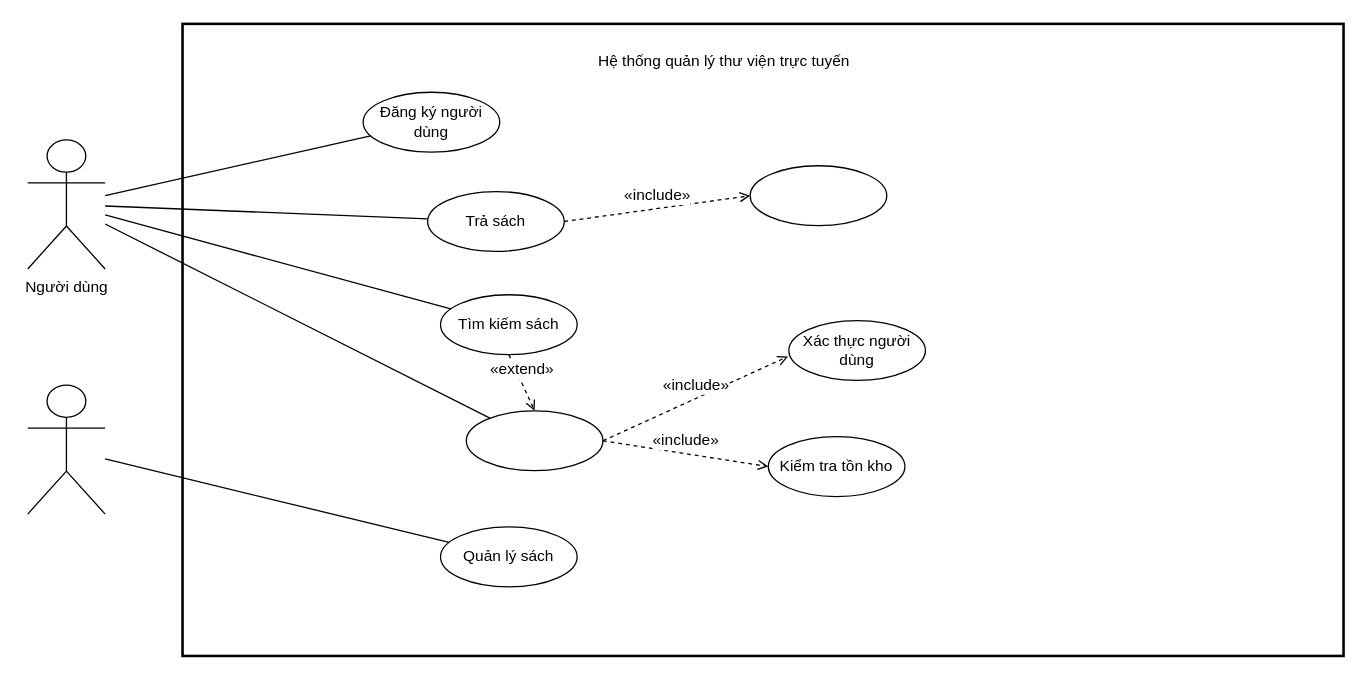
Some shapes in this 1366 by 679 pixel diagram are drawn without their labels. The shapes that lost their labels are listed below. From the top down, each one's centre as x and y in pixels, then its label:
At [818,195]: "Ghi nhận trả sách".
At [65,449]: "Quản trị viên".
At [534,440]: "Mượn sách".
